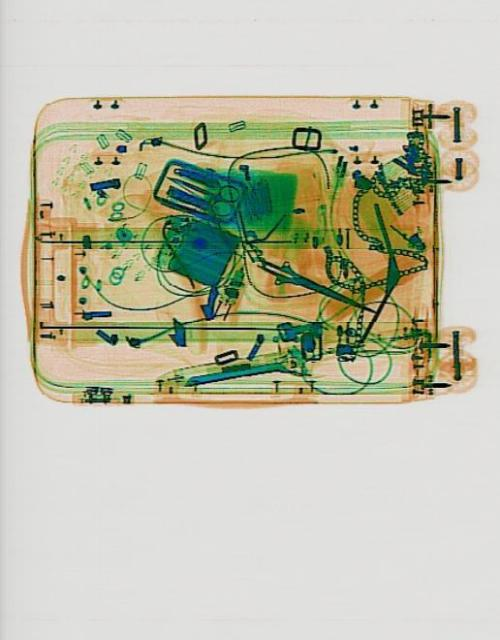Knife: (251, 249, 380, 323)
Scissors: (161, 158, 242, 222)
